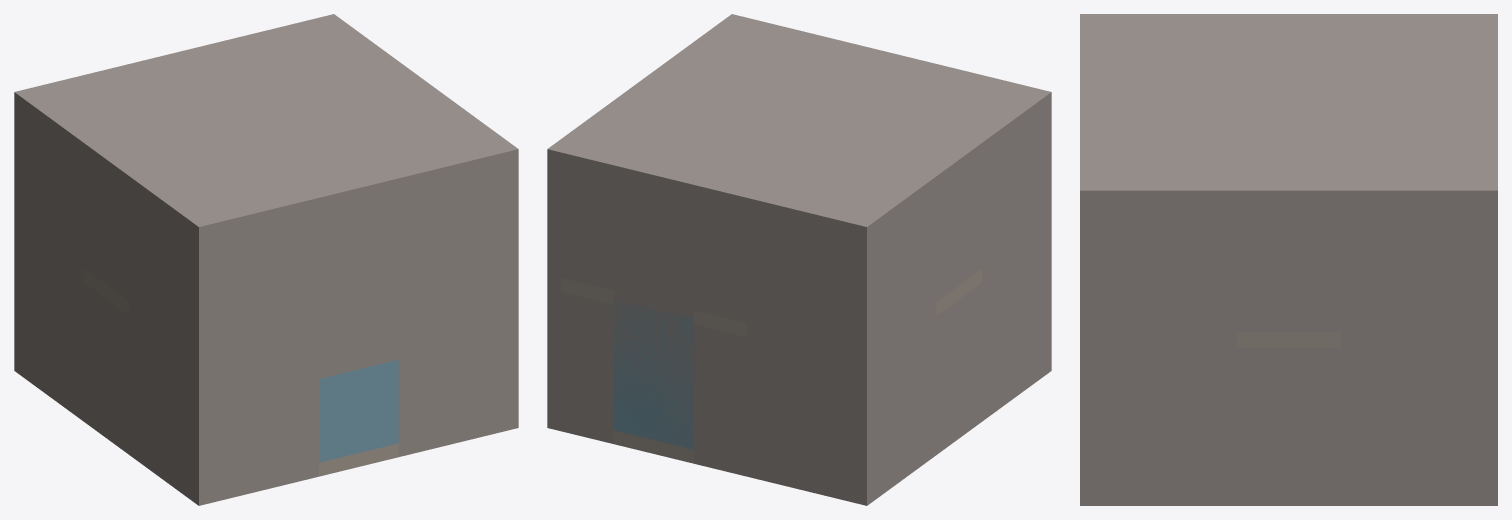
File: creek-sink-sump.glb
The picture shows the model from 3 angles, left to right: view 1: azimuth 30°, elevation 25°; view 2: azimuth 150°, elevation 25°; view 3: azimuth 270°, elevation 25°; orthographic projection. The views are drawn at different scales.
Visible parts, largest first — view 1: rock_32, rock_28, rock_4, rock_9, rock_8, rock_3, rock_24, rock_23, water_7, rock_14, rock_20, rock_7 (+10 smaller); view 2: rock_32, rock_1, plug_creek_north, rock_21, rock_4, water_1, rock_3, plug_creek_north.001, rock_24, rock_11, rock_10, rock_23 (+10 smaller); view 3: rock_32, rock_2, rock_5, rock_22, rock_25, rock_15, plug_east, rock_31, cave-floor_11.
Boxes of the visible parts, bbox=[...] form: rock_32: bbox=[14, 14, 518, 240]; rock_28: bbox=[239, 173, 478, 342]; rock_4: bbox=[129, 302, 212, 505]; rock_9: bbox=[398, 284, 478, 456]; rock_8: bbox=[239, 323, 318, 495]; rock_3: bbox=[22, 223, 83, 421]; rock_24: bbox=[129, 191, 212, 352]; rock_23: bbox=[22, 112, 83, 267]; water_7: bbox=[319, 359, 398, 462]; rock_14: bbox=[83, 282, 129, 454]; rock_20: bbox=[319, 304, 398, 378]; rock_7: bbox=[478, 278, 505, 437]; rock_32: bbox=[547, 14, 1051, 240]; rock_1: bbox=[747, 323, 874, 505]; plug_creek_north: bbox=[560, 180, 746, 323]; rock_21: bbox=[747, 212, 874, 352]; rock_4: bbox=[982, 218, 1051, 421]; water_1: bbox=[614, 301, 693, 449]; rock_3: bbox=[874, 302, 936, 499]; plug_creek_north.001: bbox=[614, 291, 693, 448]; rock_24: bbox=[982, 106, 1051, 267]; rock_11: bbox=[560, 292, 613, 443]; rock_10: bbox=[694, 324, 746, 476]; rock_23: bbox=[874, 191, 936, 346]; rock_32: bbox=[1080, 14, 1497, 206]; rock_2: bbox=[1341, 332, 1497, 505]; rock_5: bbox=[1080, 332, 1236, 505]; rock_22: bbox=[1341, 206, 1497, 332]; rock_25: bbox=[1080, 206, 1236, 332]; rock_15: bbox=[1236, 348, 1341, 505]; plug_east: bbox=[1236, 238, 1341, 332]; rock_31: bbox=[1236, 206, 1341, 237]; cave-floor_11: bbox=[1236, 332, 1341, 348].
Size of the model in its own units: 12 by 10 by 12.
